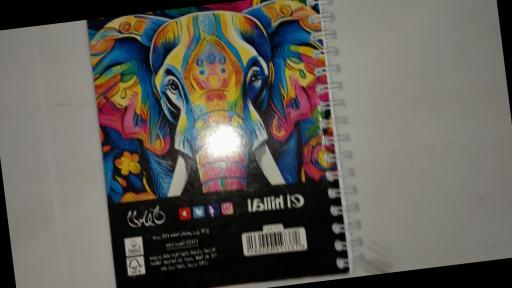notebook: (83, 0, 365, 288)
